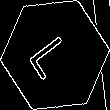L_NE: (28, 28, 82, 82)
